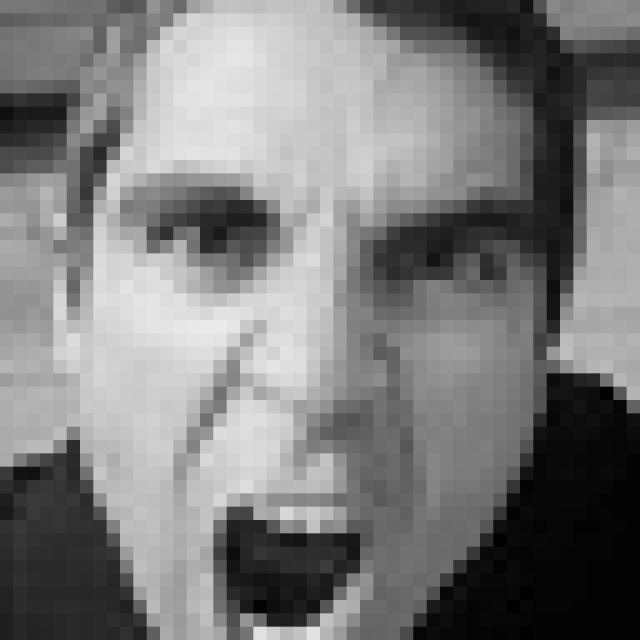angry: (114, 161, 539, 640)
